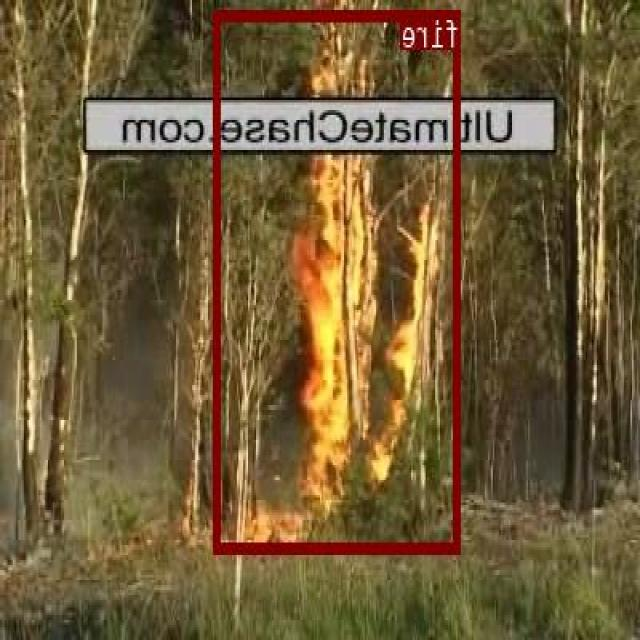fire: (214, 10, 462, 552)
